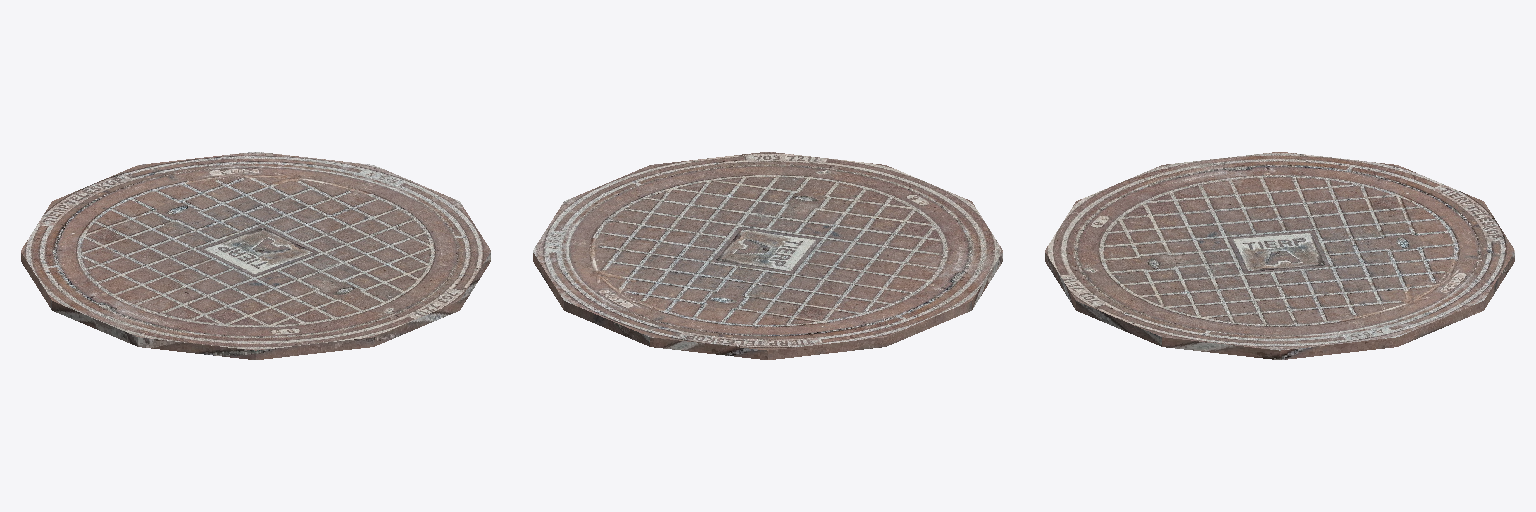
3 renders of one model, left to right at view 1: azimuth 30°, elevation 25°; view 2: azimuth 150°, elevation 25°; view 3: azimuth 270°, elevation 25°, orthographic.
Parts seen in each view (by area): view 1: Cylinder.008; view 2: Cylinder.008; view 3: Cylinder.008.
Boxes of the visible parts, x1,y1,x2,y2 form: Cylinder.008: [21, 152, 490, 359]; Cylinder.008: [533, 152, 1002, 359]; Cylinder.008: [1045, 152, 1514, 359].
Size of the model in its own units: 2 by 0.0458 by 2.
Materials: 1 (1 with a texture image).